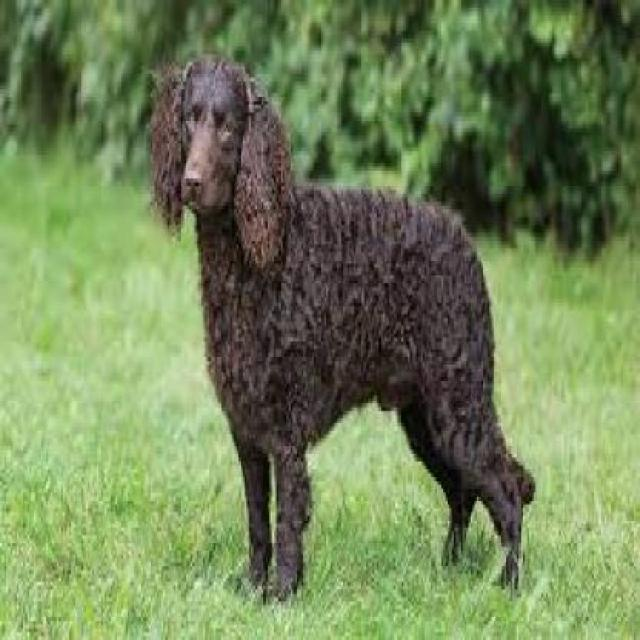animals: (111, 24, 542, 640)
